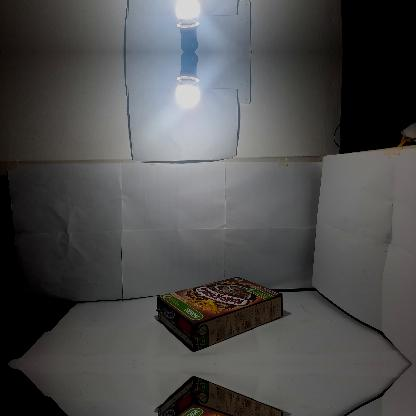Koko-Krunch: (156, 276, 282, 352), (156, 376, 283, 415)
